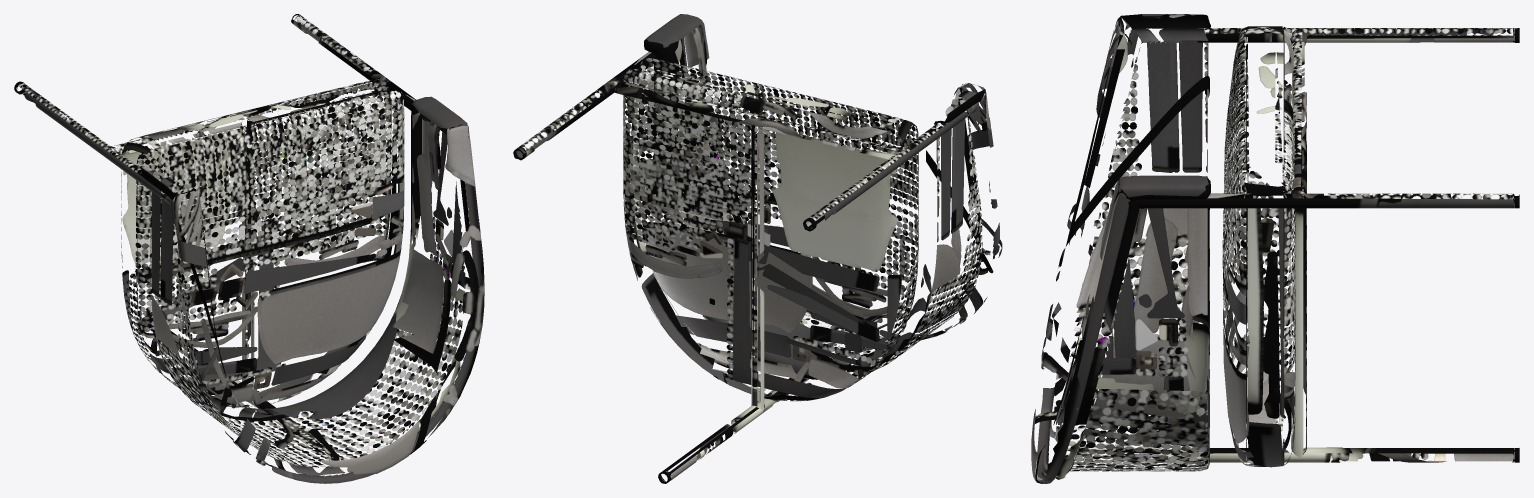
3 renders of one model, left to right at view 1: azimuth 30°, elevation 25°; view 2: azimuth 150°, elevation 25°; view 3: azimuth 270°, elevation 25°, orthographic. The views are drawn at different scales.
Size of the model in its own units: 0.6 by 0.5852 by 0.7071.
